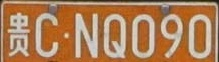C: (36, 13, 58, 57)
